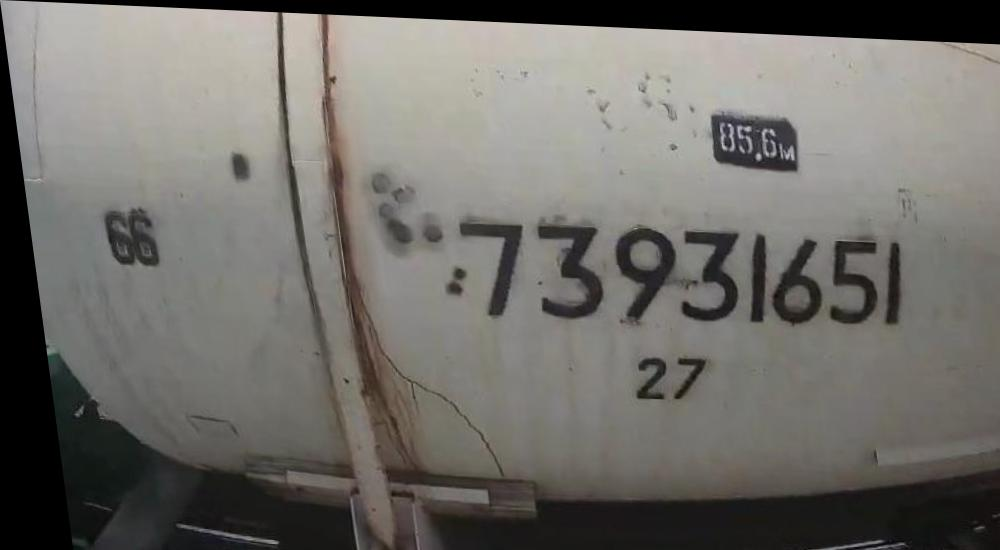Wagon-number: (446, 206, 912, 331)
